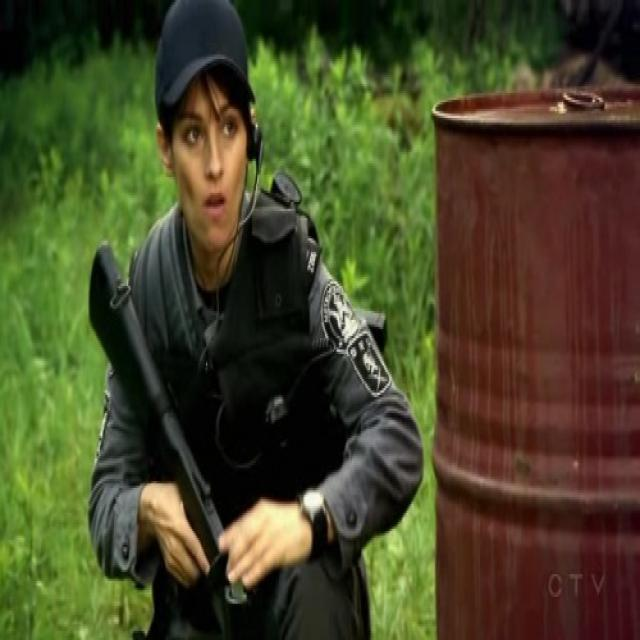rifle: (86, 239, 255, 640)
